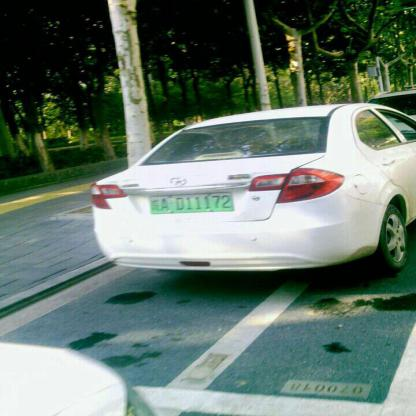lp: (150, 190, 232, 212)
